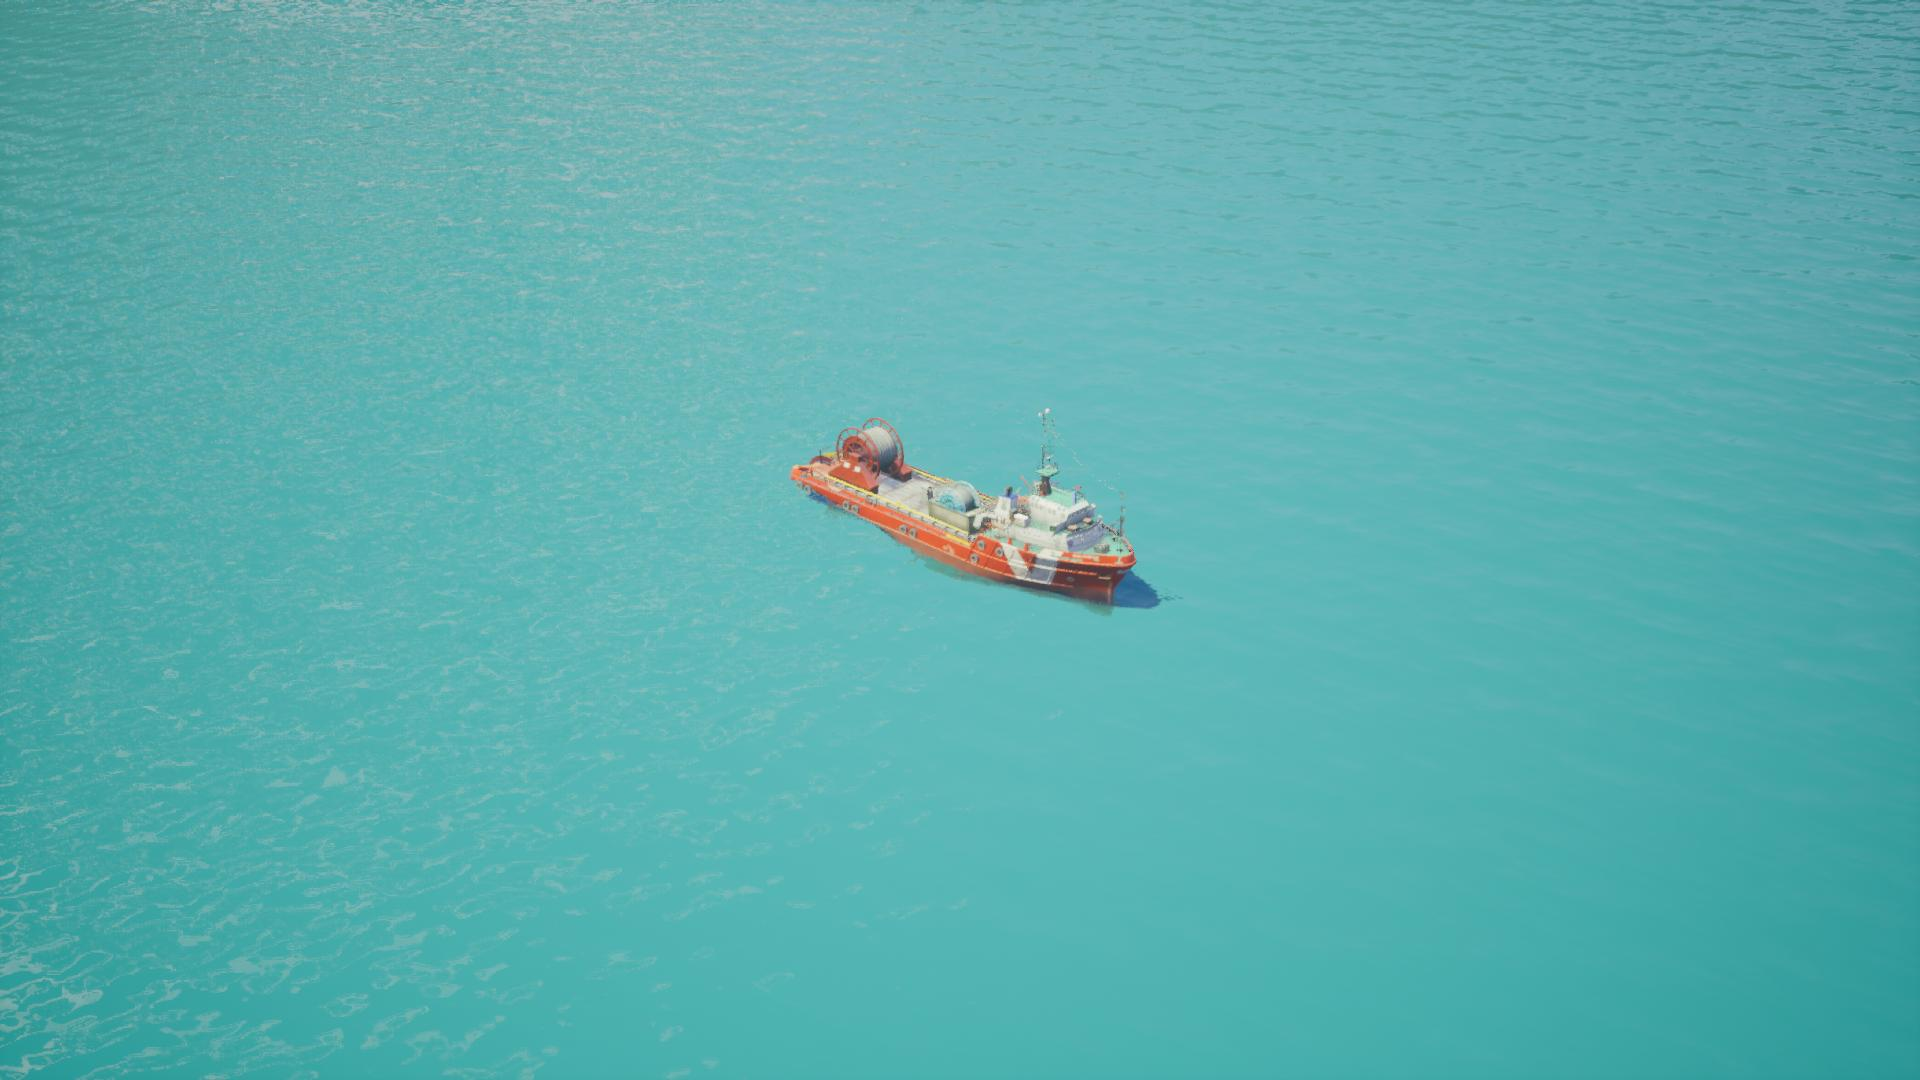Tug Boat: (791, 393, 1193, 663)
